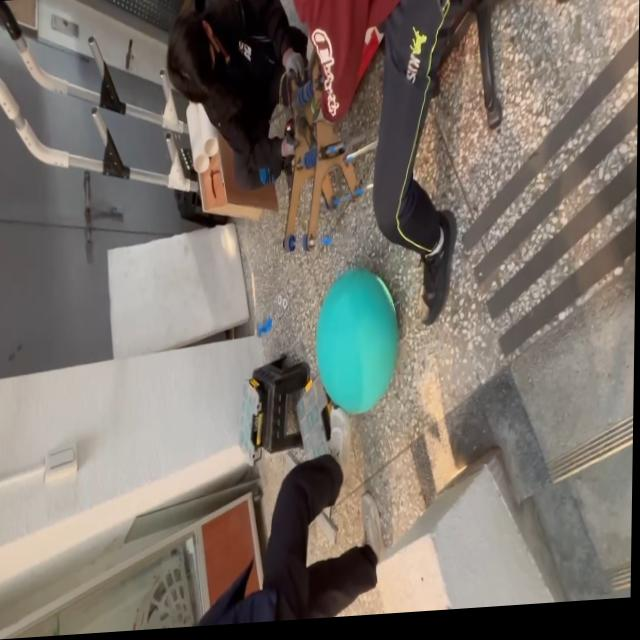ALGAE: (313, 263, 401, 420)
